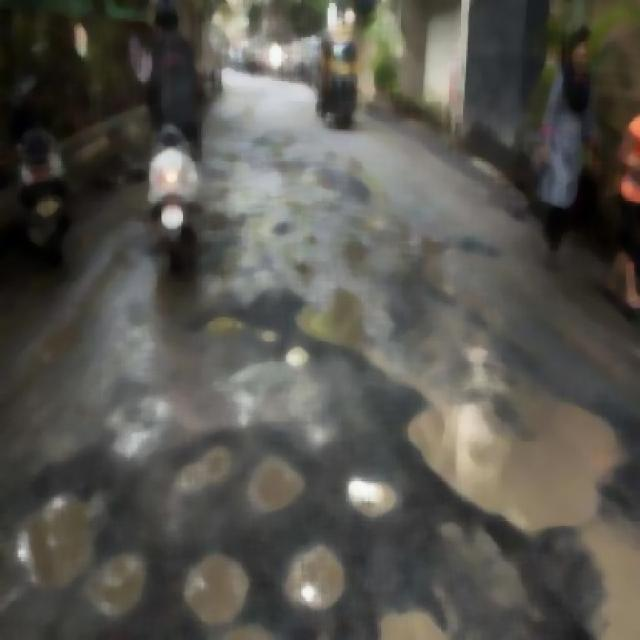Pothole: (368, 281, 614, 556), (17, 470, 128, 595), (164, 407, 247, 531), (177, 551, 265, 623), (367, 578, 471, 638), (255, 408, 302, 520), (276, 542, 344, 610)
